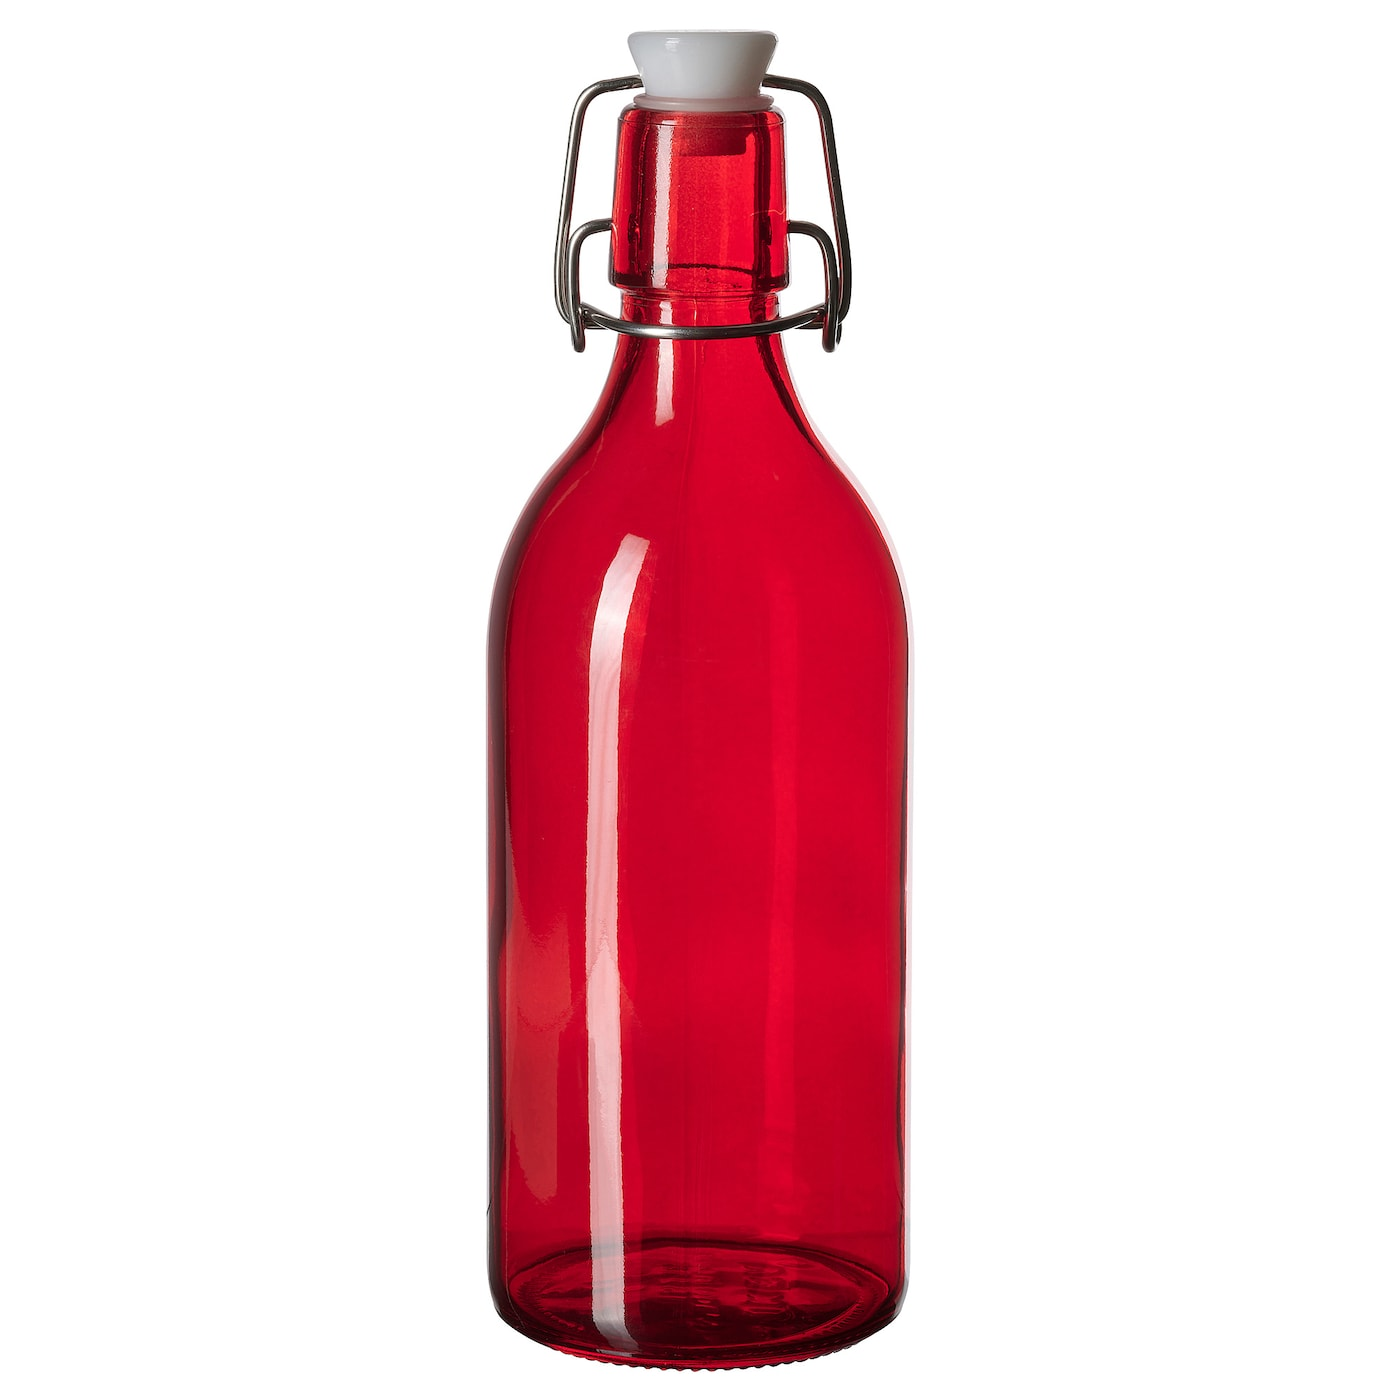glass_bottle: (450, 14, 951, 1388)
